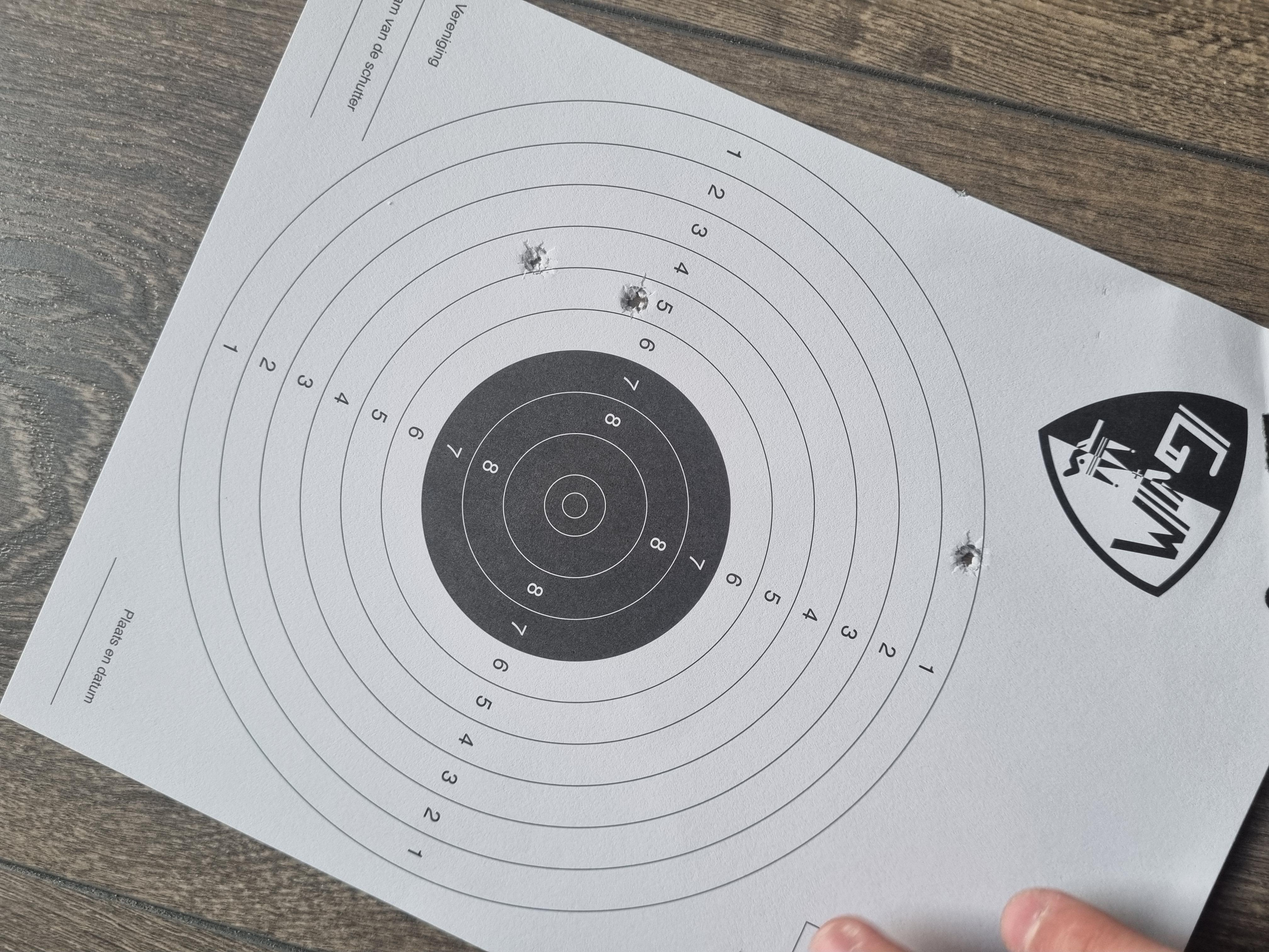hole: (501, 713, 562, 738), (842, 464, 905, 488), (897, 388, 950, 412)
